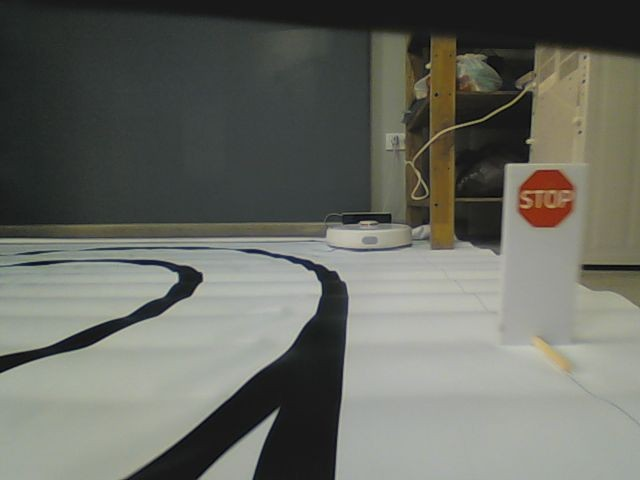Stop: (518, 167, 577, 230)
